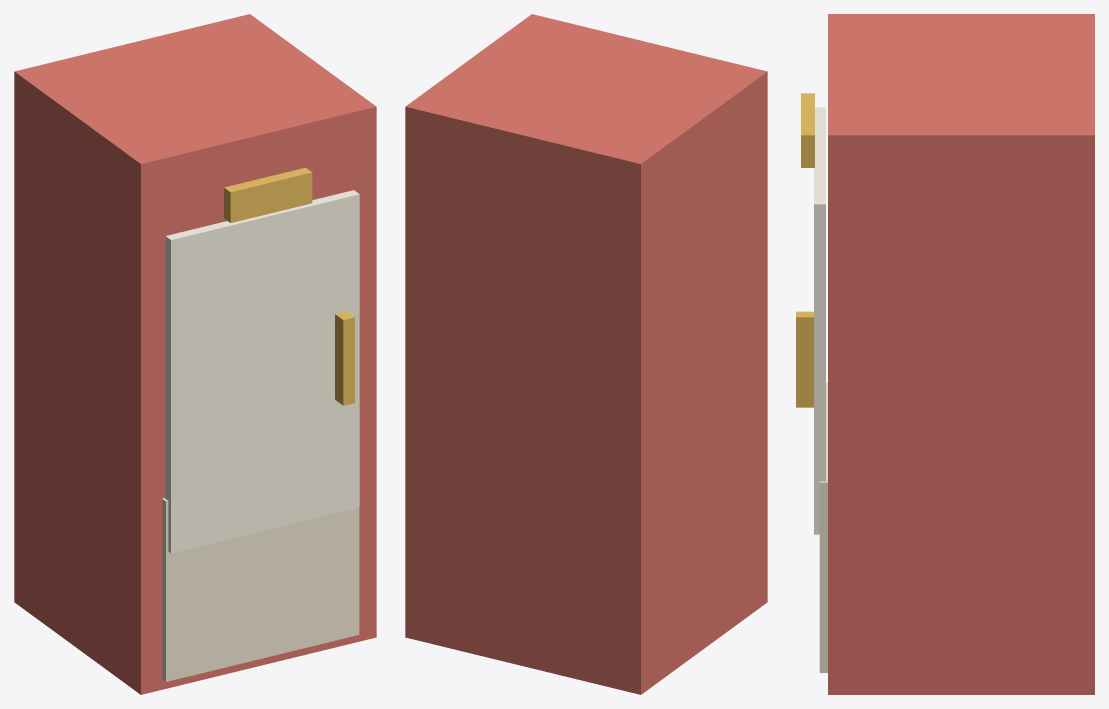
The model's file is fridge_retro.glb.
The picture shows the model from 3 angles, left to right: view 1: azimuth 30°, elevation 25°; view 2: azimuth 150°, elevation 25°; view 3: azimuth 270°, elevation 25°; orthographic projection. The views are drawn at different scales.
Parts seen in each view (by area): view 1: fridge_retro; view 2: fridge_retro; view 3: fridge_retro.
Part boxes in pixels (x1,y1,x2,y2): fridge_retro: (14, 14, 376, 694); fridge_retro: (405, 14, 767, 694); fridge_retro: (796, 14, 1094, 694).
Bounding box in the file's own units: 0.72 × 1.55 × 0.75.
